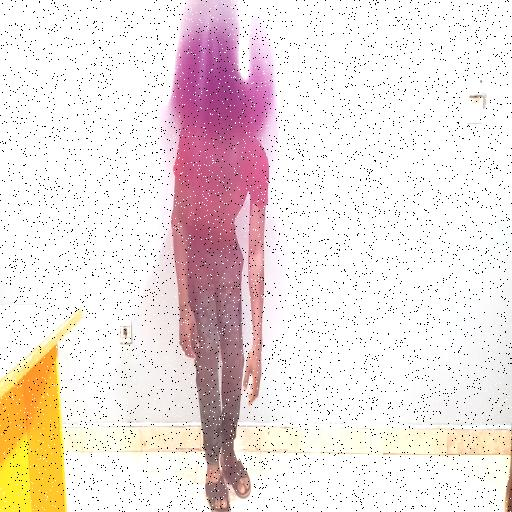plastic-ball: (171, 0, 274, 134)
